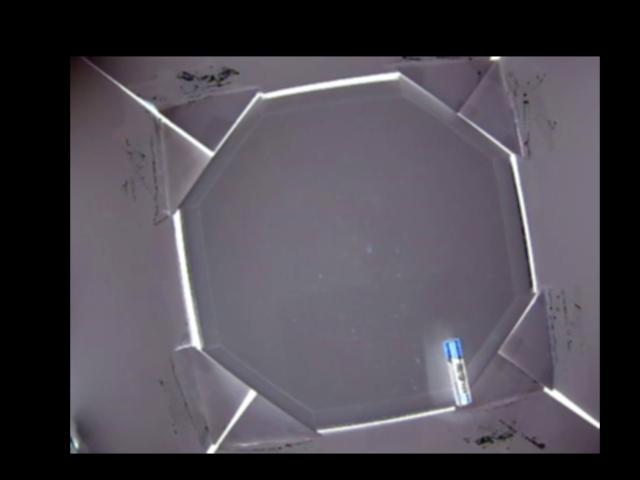Battery: (444, 337, 472, 406)
